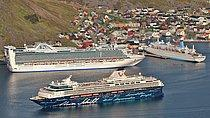Ship: (29, 69, 168, 110), (2, 41, 147, 69), (139, 37, 210, 70)
